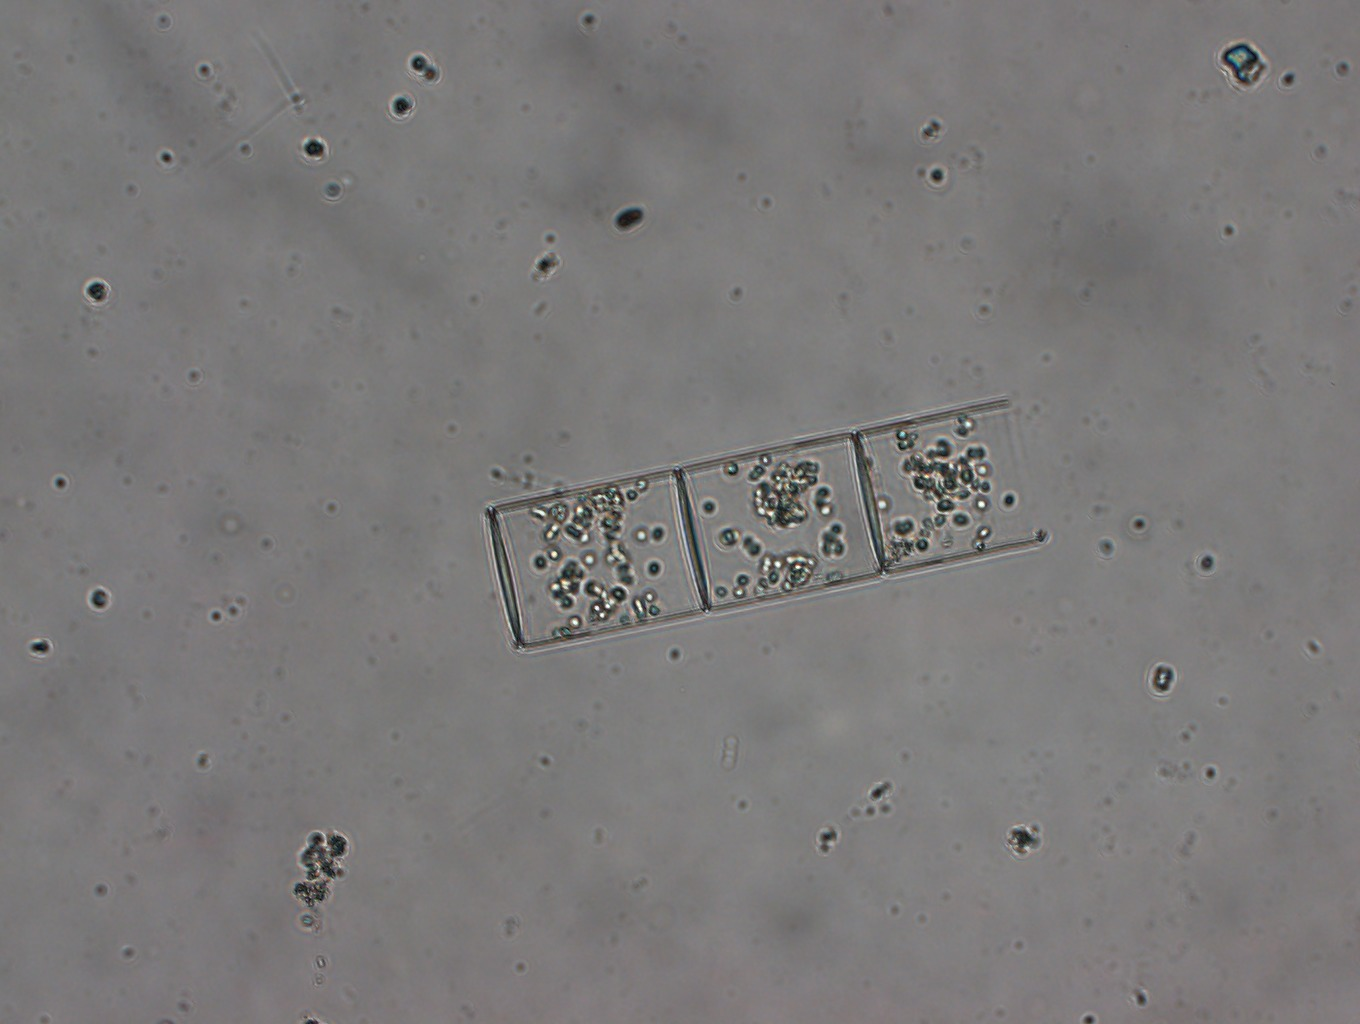guinardia flaccida: (483, 399, 1043, 652)
